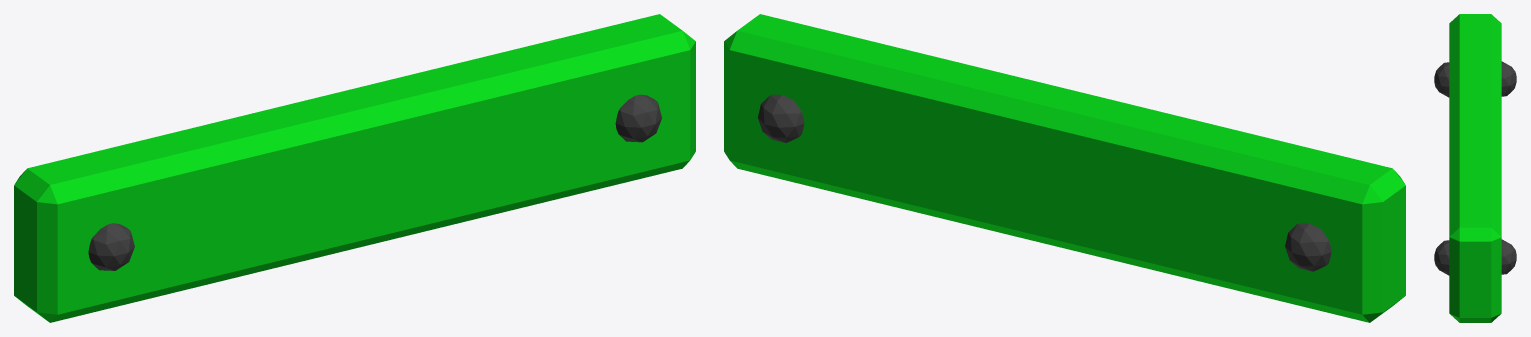
Rendered from BarIF.fbx.
3 views of the same model, side by side, from view 1: azimuth 30°, elevation 25°; view 2: azimuth 150°, elevation 25°; view 3: azimuth 270°, elevation 25° (orthographic). The views are drawn at different scales.
Parts seen in each view (by area): view 1: BarIF; view 2: BarIF; view 3: BarIF.
Part boxes in pixels (x1,y1,x2,y2): BarIF: [14, 14, 695, 322]; BarIF: [724, 14, 1405, 322]; BarIF: [1434, 14, 1516, 322].
Bounding box in the file's own units: 1000 × 200 × 157.
